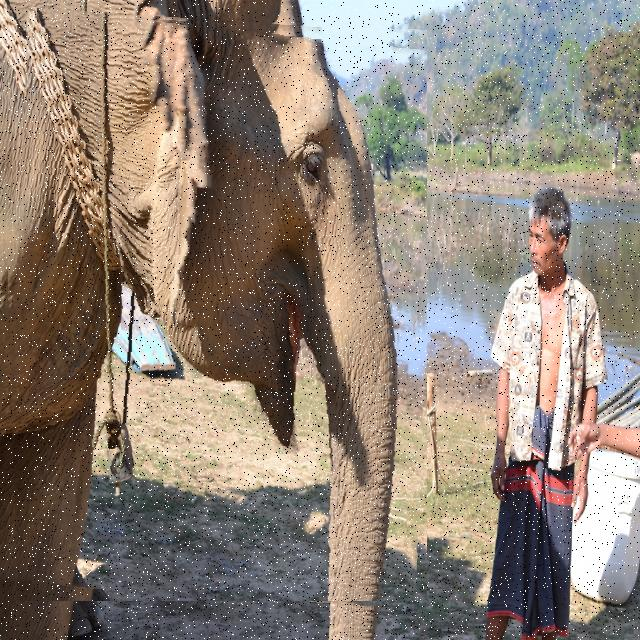elephant: (0, 14, 427, 601)
